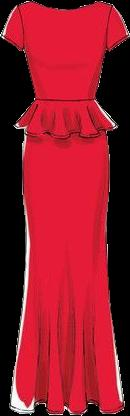Bodice: (15, 1, 113, 100)
Hemline: (12, 122, 121, 140), (8, 401, 126, 415)
Neckline: (31, 0, 98, 13)
Skirt: (9, 99, 124, 415)
Sleeve: (104, 8, 129, 51), (3, 5, 23, 50)
Sleeveline: (13, 4, 27, 51), (102, 5, 116, 52)
Waistline: (33, 96, 96, 105)
